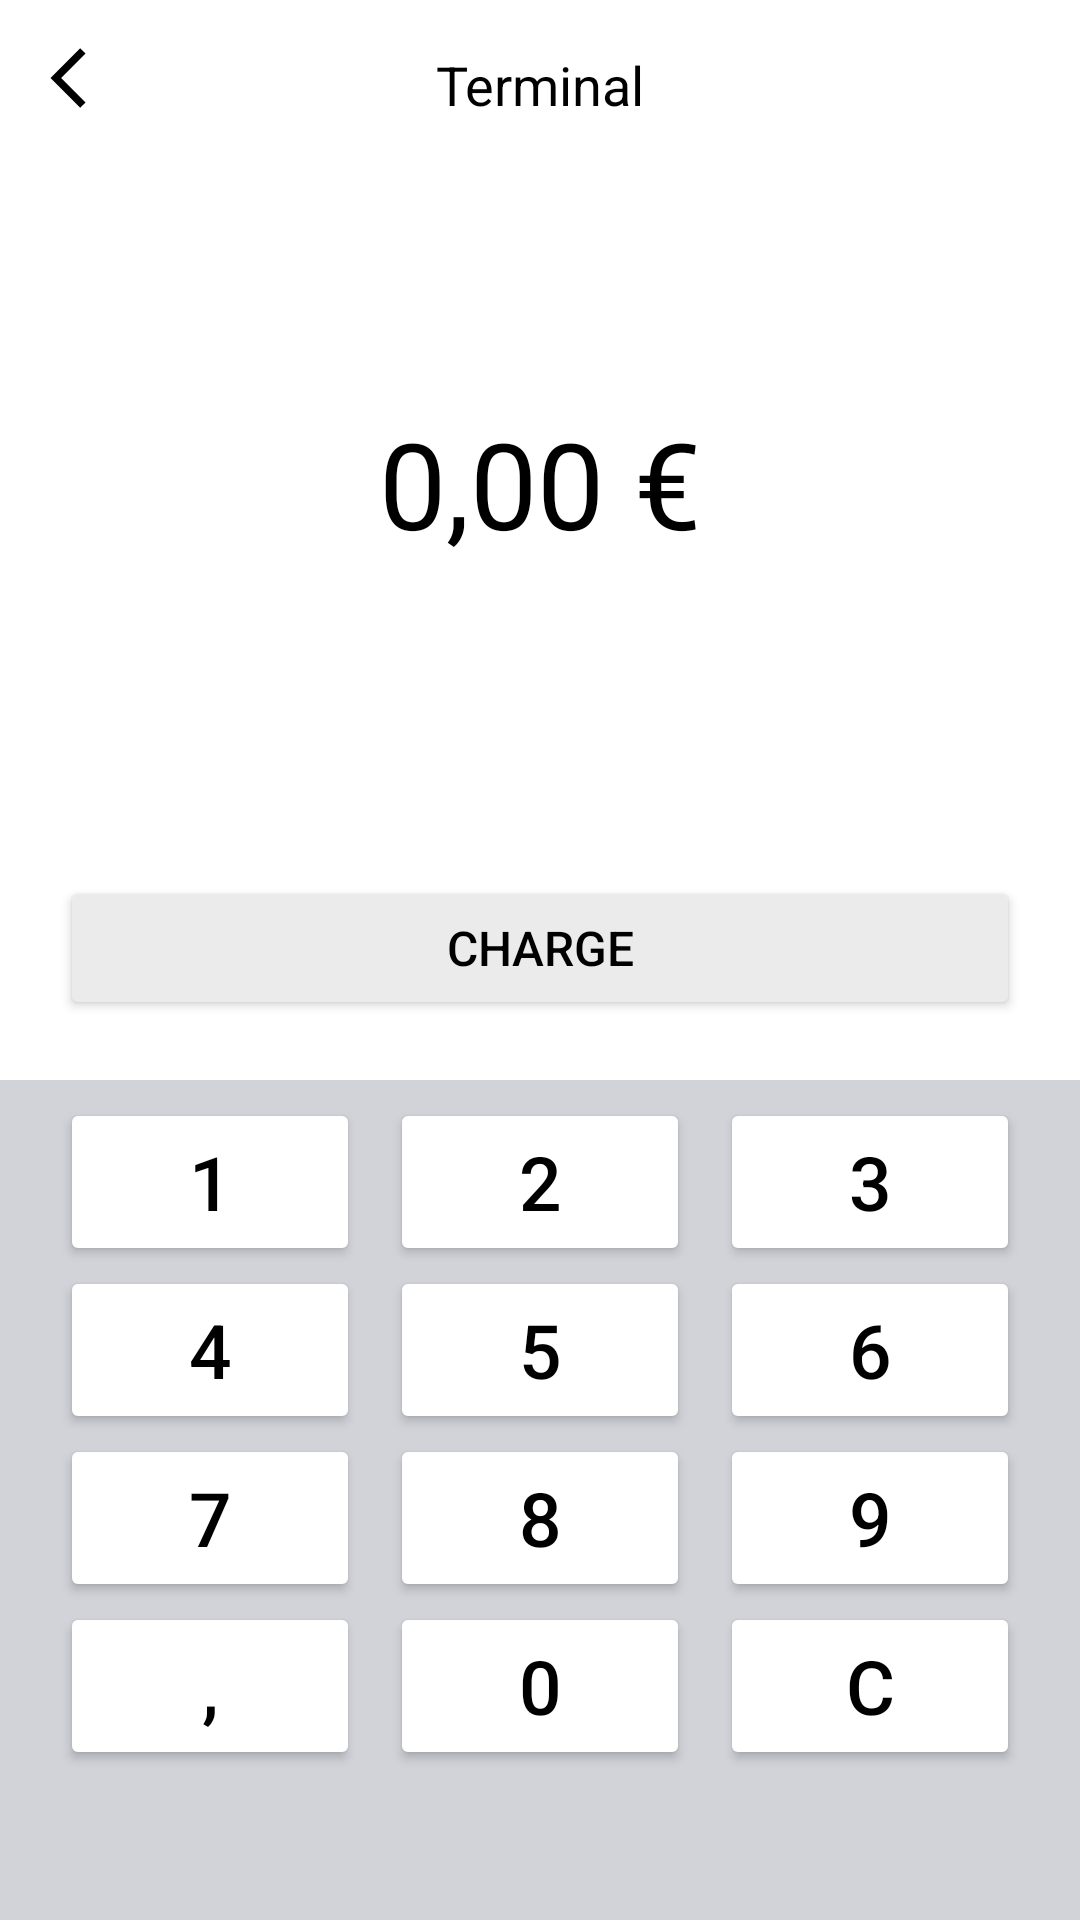

Screen size 1080px×1920px. Icon name, then its center in pixels as [x,y]:
arrow back: [68,78]
